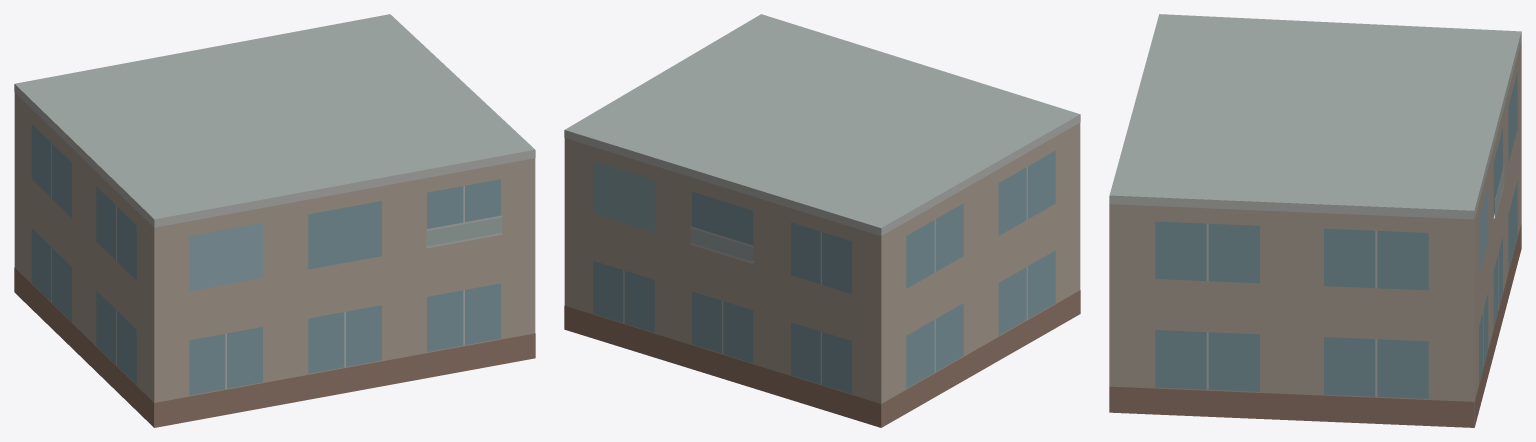
Rendered from survey-upis-33004959.glb.
The picture shows the model from 3 angles, left to right: view 1: azimuth 30°, elevation 25°; view 2: azimuth 150°, elevation 25°; view 3: azimuth 270°, elevation 25°; orthographic projection. The views are drawn at different scales.
Parts seen in each view (by area): view 1: survey-upis-33004959.tmp; view 2: survey-upis-33004959.tmp; view 3: survey-upis-33004959.tmp.
Part boxes in pixels (box(x1,y1,x2,y2)): survey-upis-33004959.tmp: box(14, 14, 535, 427); survey-upis-33004959.tmp: box(564, 14, 1080, 427); survey-upis-33004959.tmp: box(1109, 14, 1521, 427).
Size of the model in its own units: 11.87 by 6.1 by 10.51.
